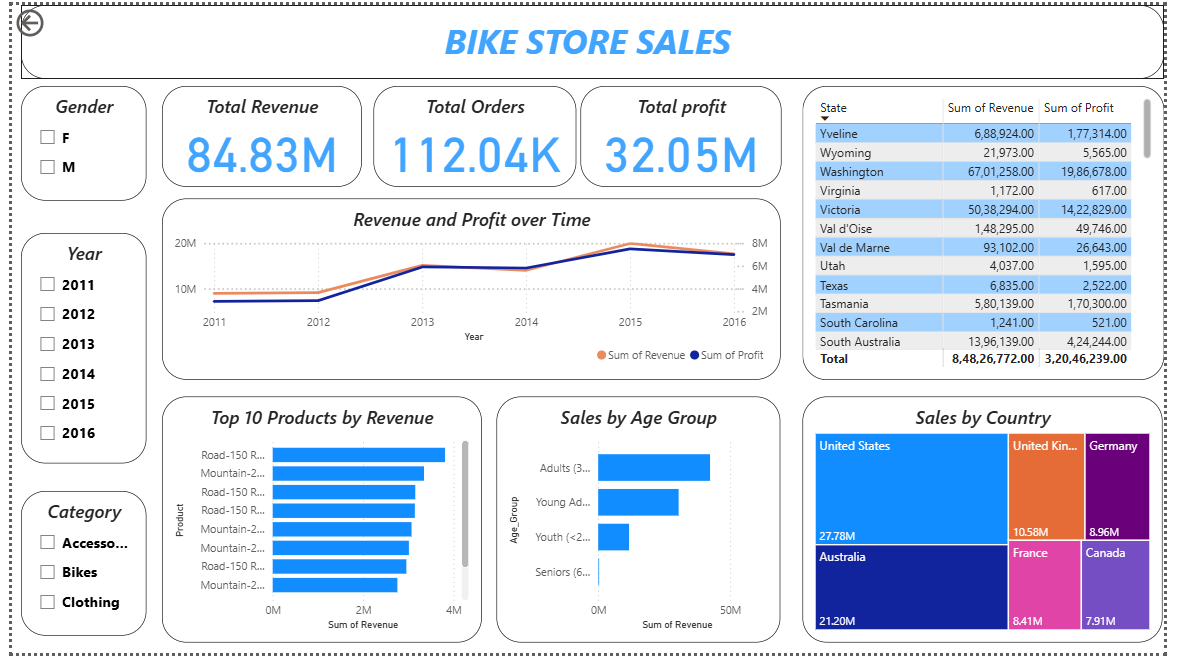

Layout of this report page (visuals, bound fields, positions):
{"tool":"powerbi","page":{"name":"Page 1","canvas":[1280,720],"ordinal":0},"visuals":[{"type":"textbox","box":[10,0,1270,81.7],"z":0},{"type":"treemap","title":"Sales by Country","fields":{"Group":["BikeSales.Country"],"Values":["Sum(BikeSales.Revenue)"]},"box":[878.3,435,400,273.3],"z":1000},{"type":"slicer","title":"Category","fields":{"Values":["BikeSales.Product_Category"]},"box":[10.6,540.6,139.3,160.5],"z":2000},{"type":"slicer","title":"Gender","fields":{"Values":["BikeSales.Customer_Gender"]},"box":[10.6,89.3,139.3,127.2],"z":3000},{"type":"actionButton","box":[0,0,100,40],"z":4000},{"type":"slicer","title":"Year","fields":{"Values":["BikeSales.Year"]},"box":[10.6,252.9,139.3,255.9],"z":5000},{"type":"lineChart","title":"Revenue and Profit over Time ","fields":{"Y":["Sum(BikeSales.Revenue)"],"Category":["BikeSales.Date.Variation.Date Hierarchy.Year","BikeSales.Date.Variation.Date Hierarchy.Quarter","BikeSales.Date.Variation.Date Hierarchy.Month","BikeSales.Date.Variation.Date Hierarchy.Day"],"Y2":["Sum(BikeSales.Profit)"]},"box":[166.6,215,687.4,201.4],"z":6000},{"type":"card","title":"Total Revenue","fields":{"Values":["Sum(BikeSales.Revenue)"]},"box":[166.7,90,221.7,111.7],"z":7000},{"type":"tableEx","fields":{"Values":["BikeSales.State","Sum(BikeSales.Revenue)","Sum(BikeSales.Profit)"]},"box":[878.3,90,401.7,326.7],"z":8000},{"type":"card","title":"Total profit ","fields":{"Values":["Sum(BikeSales.Profit)"]},"box":[631.7,90,223.3,111.7],"z":9000},{"type":"card","title":"Total Orders ","fields":{"Values":["CountNonNull(BikeSales.Order_Quantity)"]},"box":[401.7,90,225,111.7],"z":10000},{"type":"barChart","title":"Top 10 Products by Revenue","fields":{"Category":["BikeSales.Product"],"Y":["Sum(BikeSales.Revenue)"]},"box":[166.7,435,355,273.3],"z":11000},{"type":"barChart","title":"Sales by Age Group","fields":{"Category":["BikeSales.Age_Group"],"Y":["Sum(BikeSales.Revenue)"]},"box":[538.3,435,315,273.3],"z":12000}]}

Visuals, with their boxes in screenshot pixels (x1, y1, x2, y2), scaled from the page's 1280x720 canvas onto the 1177x659 screenshot:
textbox: 9,0,1176,75
"Sales by Country" treemap: 808,398,1175,648
"Category" slicer: 10,495,138,642
"Gender" slicer: 10,82,138,198
actionButton: 0,0,92,37
"Year" slicer: 10,231,138,466
"Revenue and Profit over Time " lineChart: 153,197,785,381
"Total Revenue" card: 153,82,357,185
tableEx - BikeSales.State x Sum(BikeSales.Revenue): 808,82,1176,381
"Total profit " card: 581,82,786,185
"Total Orders " card: 369,82,576,185
"Top 10 Products by Revenue" barChart: 153,398,480,648
"Sales by Age Group" barChart: 495,398,785,648
